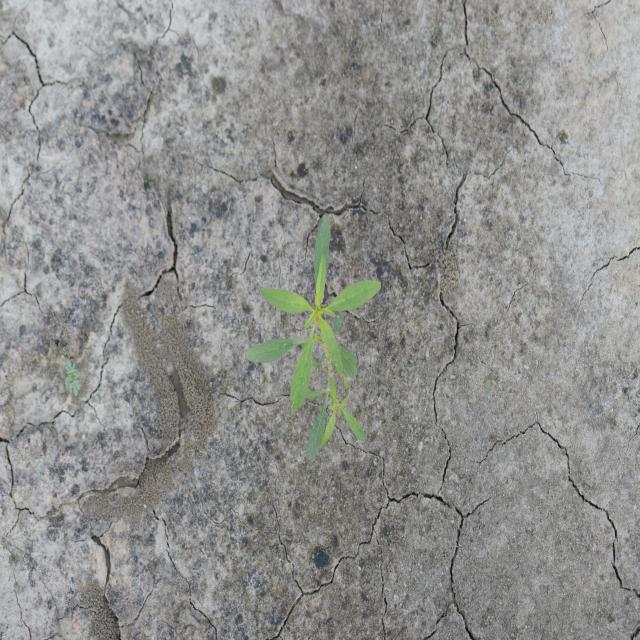Waterhemp: (243, 213, 383, 468)
